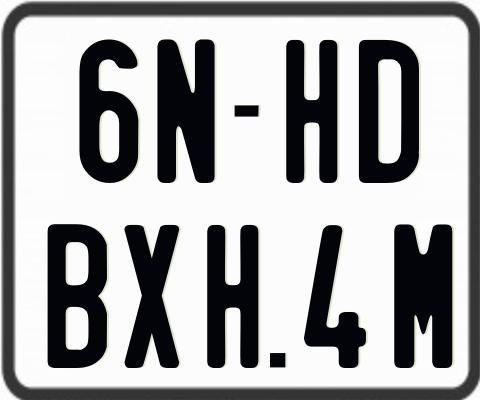4: (303, 224, 365, 368)
6: (79, 36, 139, 180)
B: (47, 223, 106, 369)
D: (356, 40, 422, 188)
H: (204, 223, 255, 371), (286, 37, 337, 184)
M: (393, 221, 456, 365)
N: (156, 37, 214, 183)
X: (124, 223, 180, 371)
